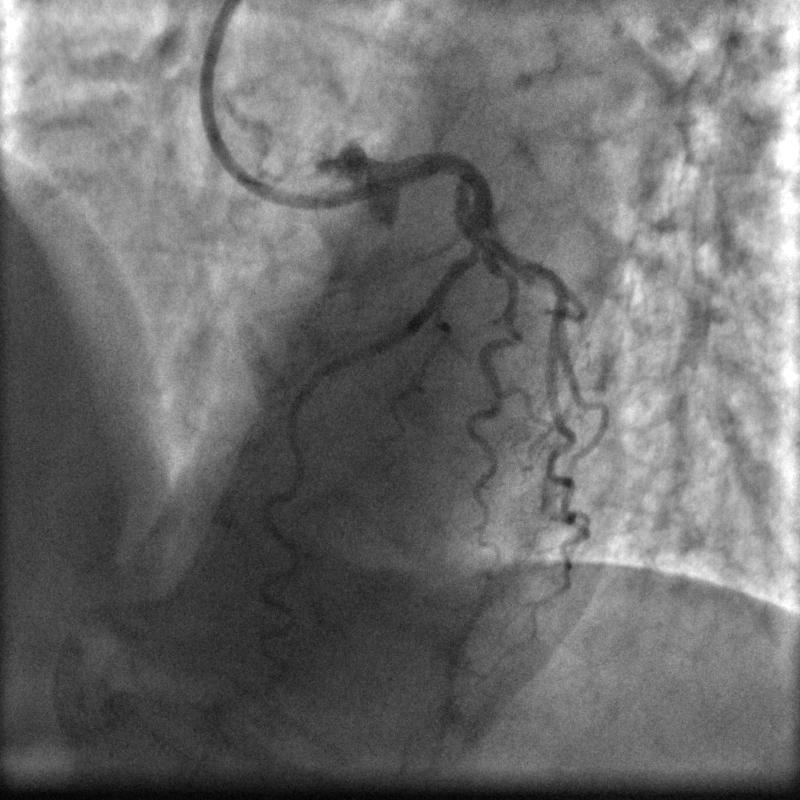Stenosis: (467, 228, 491, 261)
